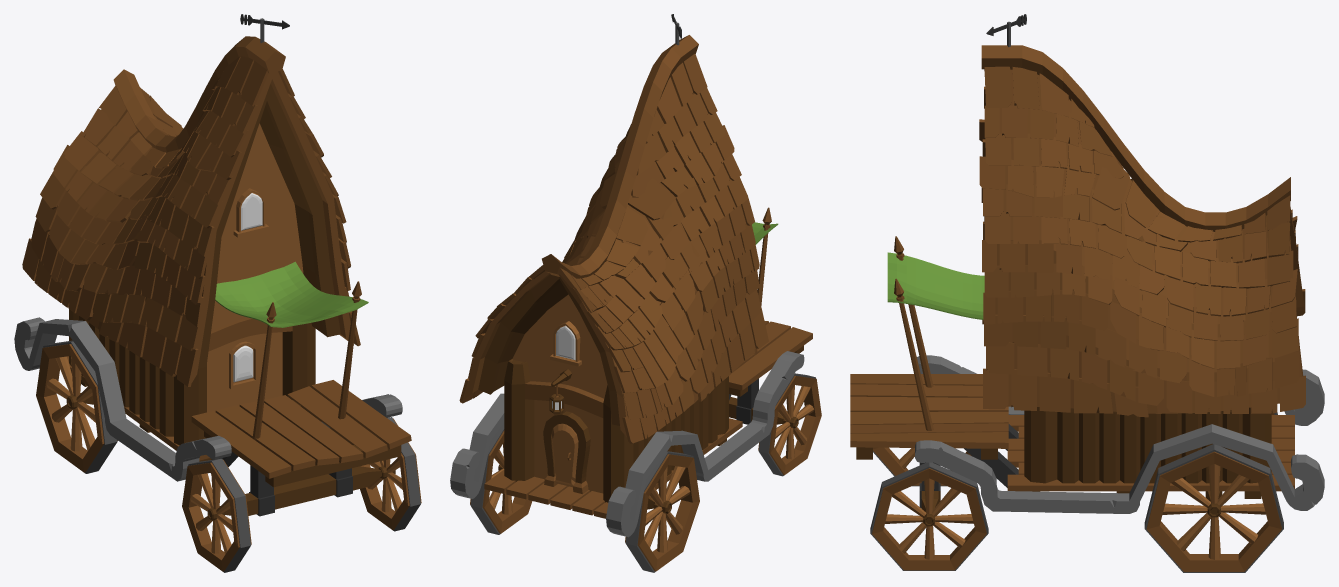
Rendered from C_A_CarriageGreen.fbx.
3 renders of one model, left to right at view 1: azimuth 30°, elevation 25°; view 2: azimuth 150°, elevation 25°; view 3: azimuth 270°, elevation 25°, orthographic. The views are drawn at different scales.
Visible parts, largest first — view 1: C_A_CarriageGreen, C_Wheel.019, C_Wheel.020, C_Wheel.021; view 2: C_A_CarriageGreen, C_Wheel.019, C_Wheel.020, C_Wheel.018; view 3: C_A_CarriageGreen, C_Wheel.018, C_Wheel.021, C_Wheel.020.
Part boxes in pixels (x1,y1,x2,y2): C_A_CarriageGreen: (14,14,411,516); C_Wheel.019: (36,340,117,473); C_Wheel.020: (182,458,251,572); C_Wheel.021: (360,417,421,531); C_A_CarriageGreen: (450,14,812,537); C_Wheel.019: (625,451,699,572); C_Wheel.020: (758,373,821,476); C_Wheel.018: (470,423,532,534); C_A_CarriageGreen: (850,14,1324,513); C_Wheel.018: (1144,444,1283,572); C_Wheel.021: (870,462,988,570); C_Wheel.020: (873,447,971,486).
Size of the model in its own units: 307 by 759 by 644.
